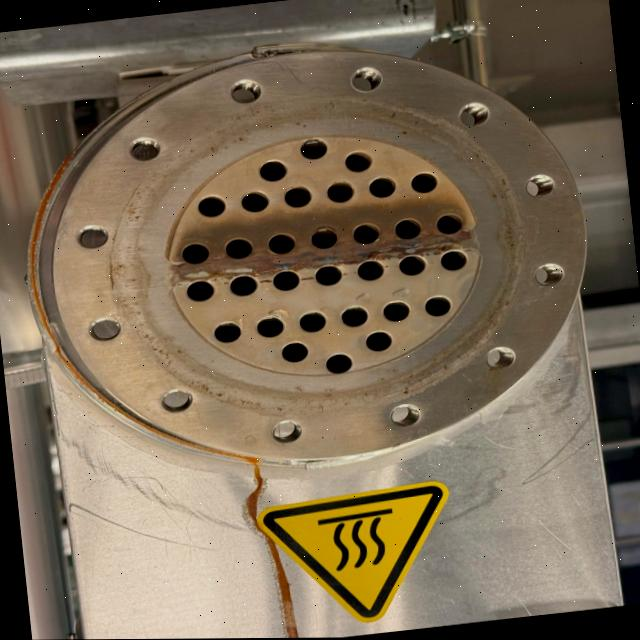Hole: (180, 274, 224, 308), (172, 240, 215, 270), (358, 174, 401, 204), (225, 270, 264, 303), (390, 213, 430, 245), (264, 227, 303, 259), (276, 338, 315, 370), (208, 317, 248, 348), (251, 157, 292, 186), (358, 328, 397, 358), (349, 218, 386, 249), (295, 308, 332, 339), (310, 262, 348, 292), (404, 170, 444, 198), (426, 212, 466, 240), (352, 258, 391, 286), (336, 302, 370, 334), (307, 223, 342, 254), (222, 234, 258, 264), (420, 292, 456, 322), (268, 267, 305, 296), (194, 194, 232, 222), (281, 181, 316, 211), (320, 350, 356, 379), (380, 296, 412, 327), (323, 177, 356, 207), (254, 314, 288, 343), (338, 148, 373, 176), (433, 249, 468, 277), (236, 189, 272, 216), (396, 253, 431, 280), (296, 139, 332, 164)
